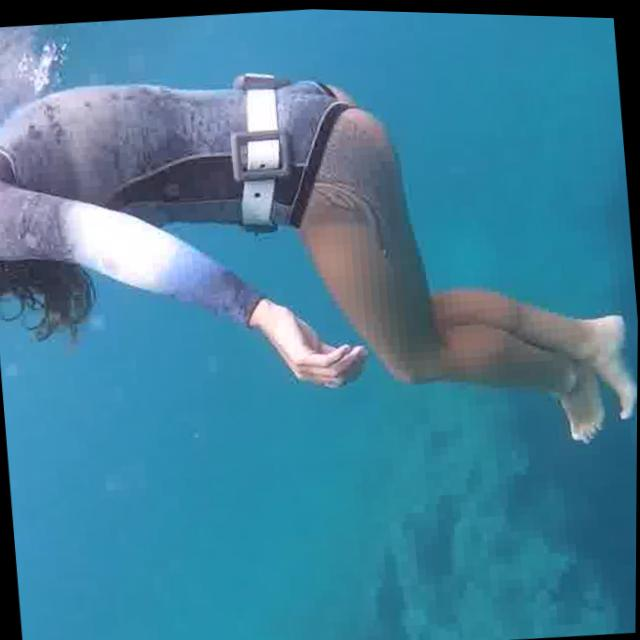human: (0, 22, 640, 502)
